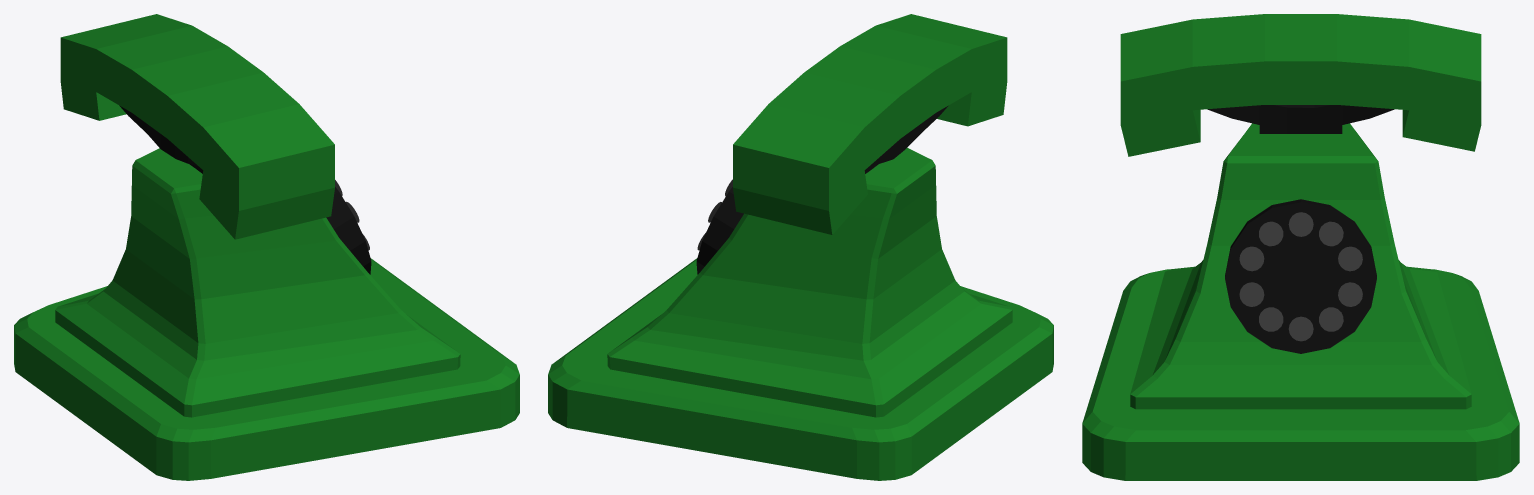
The model's file is telephone.fbx.
The picture shows the model from 3 angles, left to right: view 1: azimuth 30°, elevation 25°; view 2: azimuth 150°, elevation 25°; view 3: azimuth 270°, elevation 25°; orthographic projection.
Parts seen in each view (by area): view 1: telefone; view 2: telefone; view 3: telefone.
Boxes of the visible parts, x1,y1,x2,y2 form: telefone: [14, 14, 519, 480]; telefone: [548, 14, 1053, 480]; telefone: [1082, 14, 1519, 480].
Size of the model in its own units: 422 by 381 by 460.
